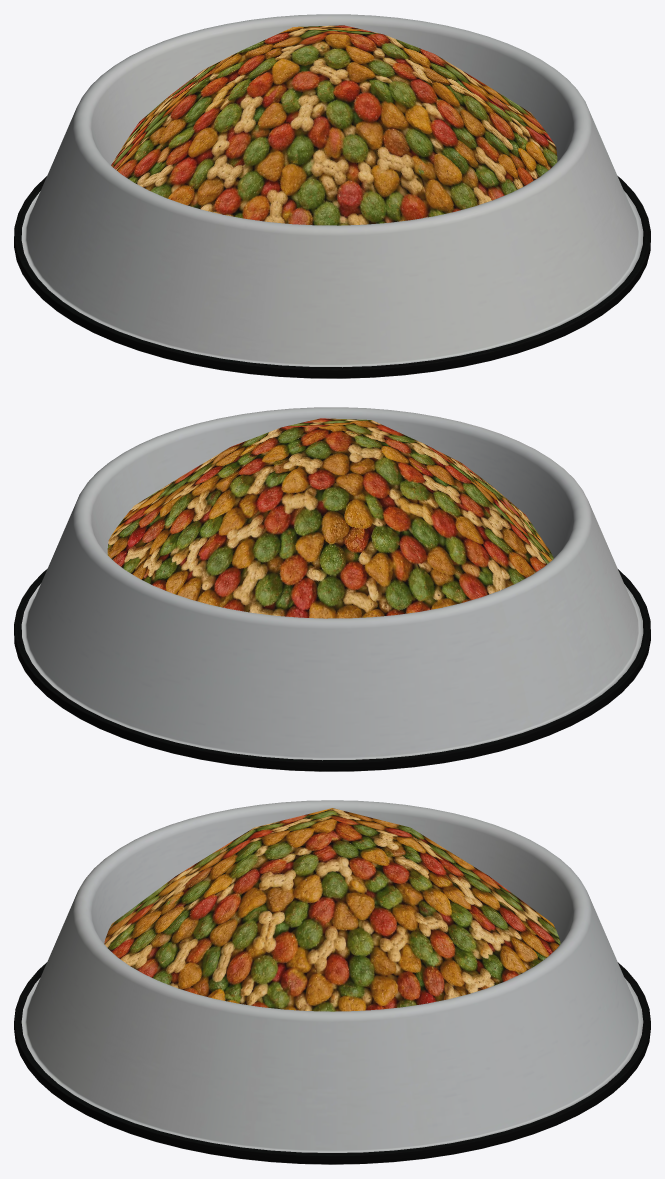
The model's file is FoodBowl.glb.
3 views of the same model, one above another, from view 1: azimuth 30°, elevation 25°; view 2: azimuth 150°, elevation 25°; view 3: azimuth 270°, elevation 25° (orthographic).
Visible parts, largest first — view 1: Bowl, Food; view 2: Bowl, Food; view 3: Bowl, Food.
Boxes of the visible parts, x1,y1,x2,y2 form: Bowl: (14, 14, 650, 378); Food: (111, 25, 557, 225); Bowl: (14, 407, 650, 771); Food: (107, 418, 553, 618); Bowl: (14, 800, 650, 1164); Food: (104, 808, 560, 1011).
Size of the model in its own units: 0.5858 by 0.2136 by 0.5858.
2 materials, 2 textured.
